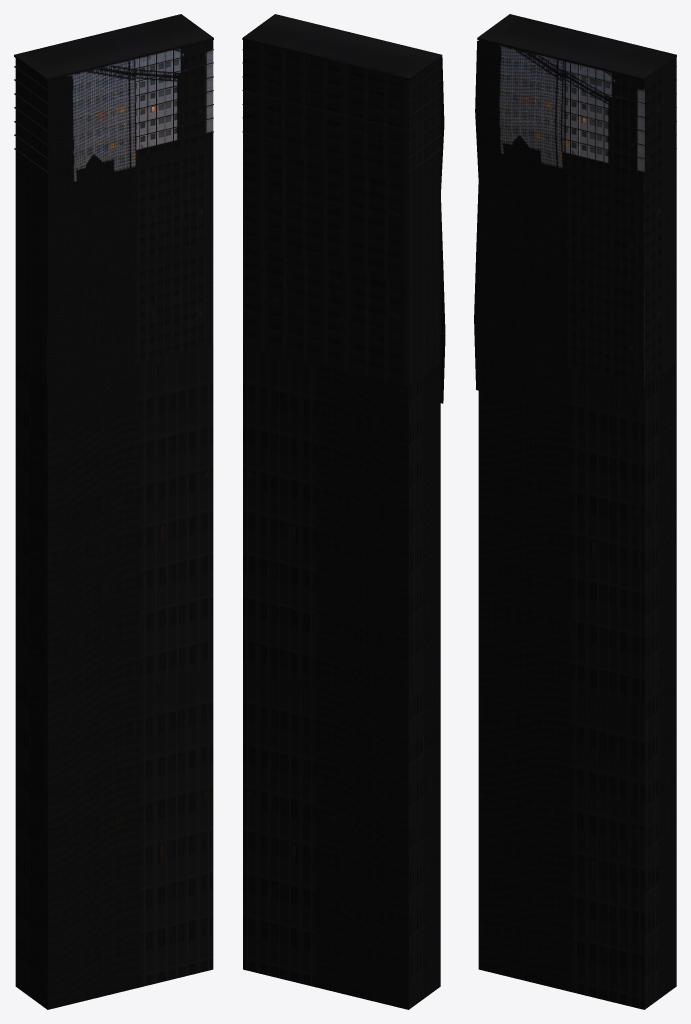
File: tower2-dodai1.obj
3 views of the same model, side by side, from view 1: azimuth 30°, elevation 25°; view 2: azimuth 150°, elevation 25°; view 3: azimuth 330°, elevation 25° (orthographic).
Size of the model in its own units: 71.05 by 374 by 25.47.
1 material, 1 textured.
